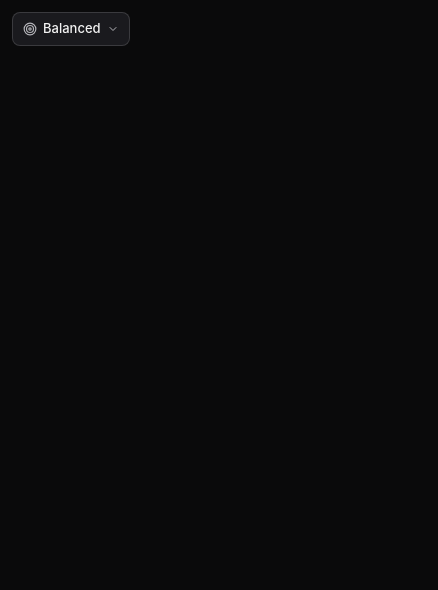
GoalPicker › queues a shape for the next message and Auto returns to the policy
Click the button with aria-label "Orchestrator goal". click: (71, 29)
box: [12,12,130,46]
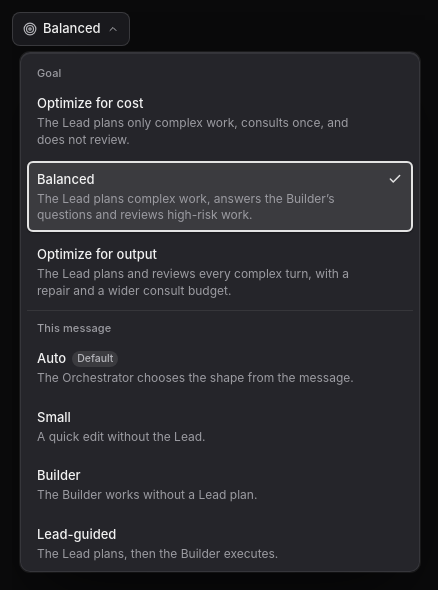
Click the option "Lead-guided The Lead plans, then the Builder executes.". click: (220, 544)
box: [27,516,413,571]
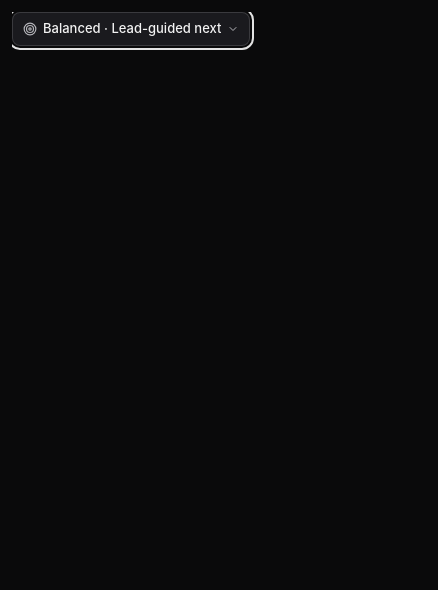
Click the button with aria-label "Orchestrator goal". click: (131, 29)
box: [12,12,250,46]
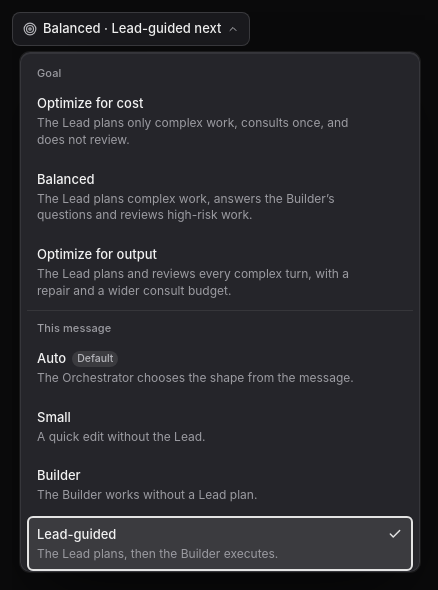
Click the option "Auto". click: (220, 367)
box: [27,340,413,395]
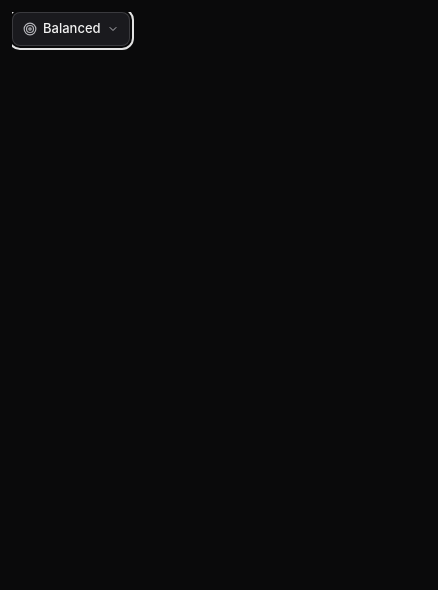
Now the button with aria-label "Orchestrator goal" reads "Balanced", box [12,12,130,46]
